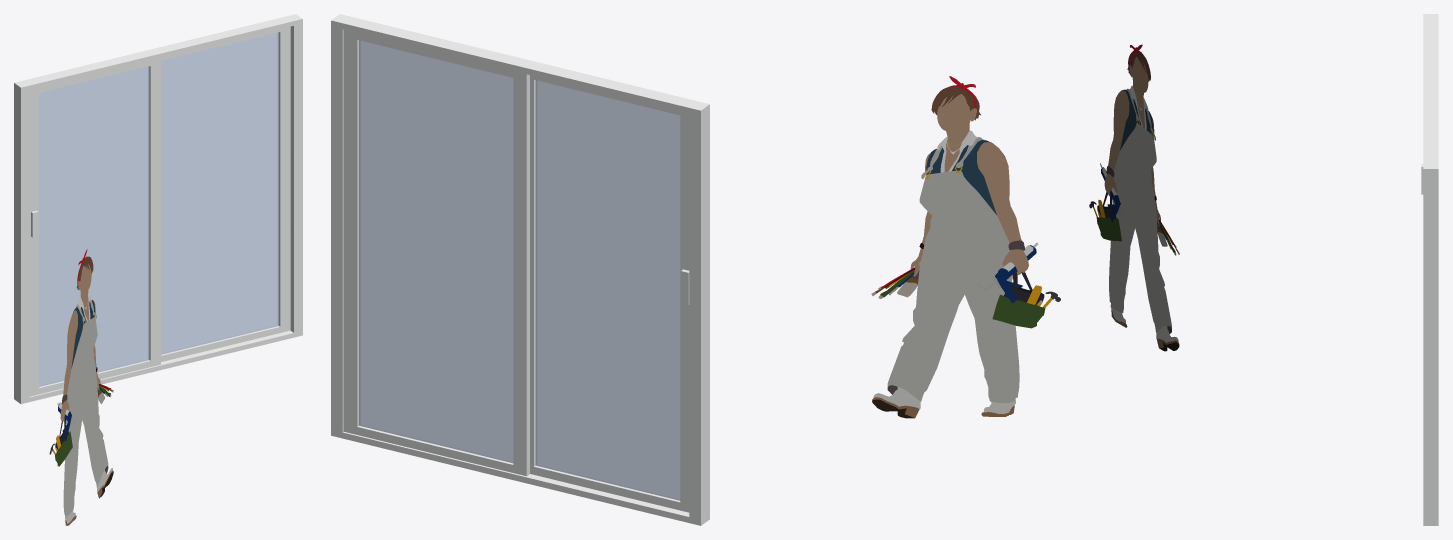
Rendered from Sliding Door.dae.
The picture shows the model from 3 angles, left to right: view 1: azimuth 30°, elevation 25°; view 2: azimuth 150°, elevation 25°; view 3: azimuth 270°, elevation 25°; orthographic projection. The views are drawn at different scales.
Parts seen in each view (by area): view 1: Fixed_Door (×3), Sliding_Door (×3), Post (×2), Lisanne (×3), Beams (×2); view 2: Fixed_Door (×3), Sliding_Door (×3), Lisanne (×5), Post (×2), Beams (×2); view 3: Lisanne (×4), Post, Beams.
Part boxes in pixels (x1,y1,x2,y2): Fixed_Door (×3): (161, 26, 290, 361); Sliding_Door (×3): (29, 58, 160, 396); Post (×2): (14, 14, 302, 403); Lisanne (×3): (63, 264, 108, 516); Beams (×2): (23, 16, 293, 401); Fixed_Door (×3): (343, 29, 529, 476); Sliding_Door (×3): (530, 75, 689, 512); Lisanne (×5): (887, 94, 1045, 403); Post (×2): (331, 14, 709, 525); Beams (×2): (342, 17, 697, 522); Lisanne (×4): (1096, 57, 1171, 332); Post: (1423, 164, 1438, 525); Beams: (1423, 19, 1438, 164).
Size of the model in its own units: 108 by 71.96 by 81.1.
